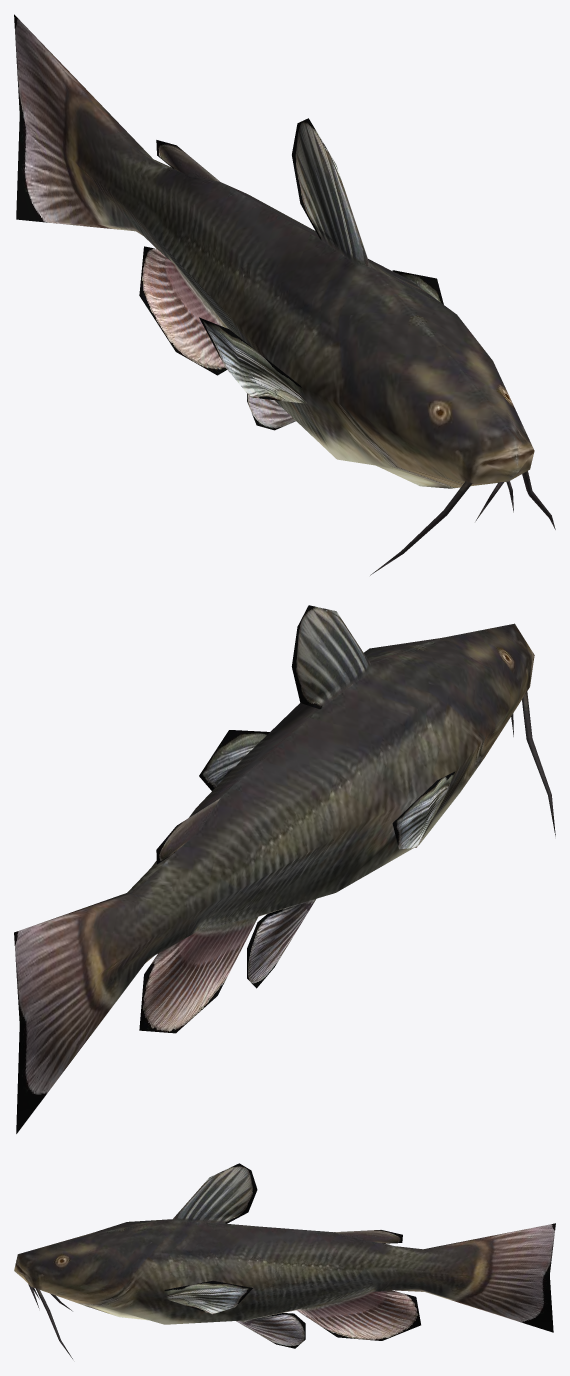
Rendered from Fish_Catfish.glb.
3 renders of one model, top to bottom at view 1: azimuth 30°, elevation 25°; view 2: azimuth 150°, elevation 25°; view 3: azimuth 270°, elevation 25°, orthographic. The views are drawn at different scales.
Visible parts, largest first — view 1: Fish_Catfish; view 2: Fish_Catfish; view 3: Fish_Catfish.
Part boxes in pixels (bbox=[...]): Fish_Catfish: bbox=[14, 14, 555, 575]; Fish_Catfish: bbox=[14, 605, 555, 1133]; Fish_Catfish: bbox=[14, 1163, 555, 1358].
Bounding box in the file's own units: 0.1427 × 0.2267 × 0.6.
1 material, 1 textured.
